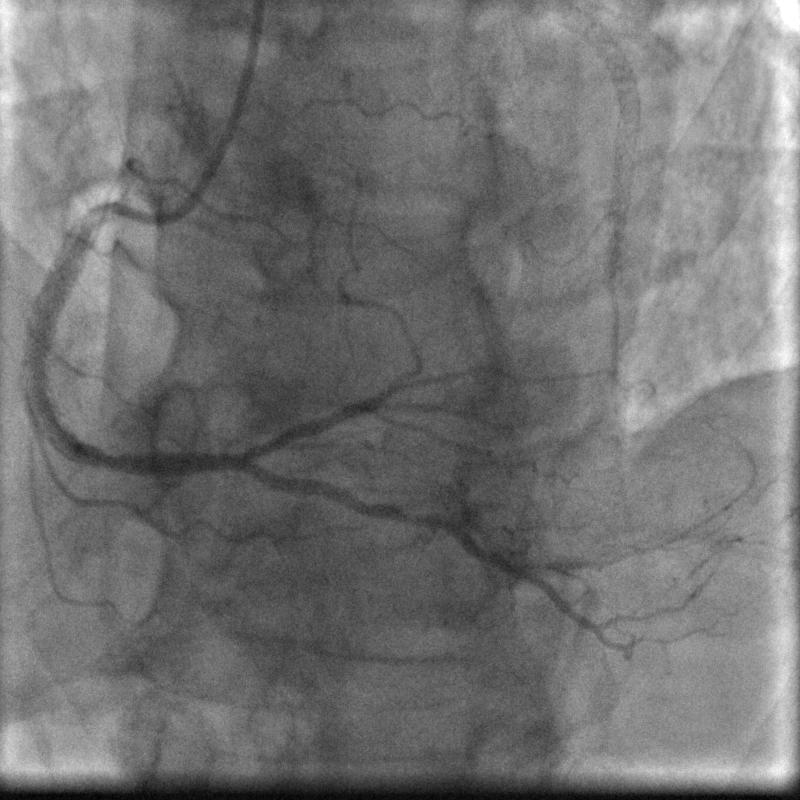Stenosis: (79, 196, 133, 229)
